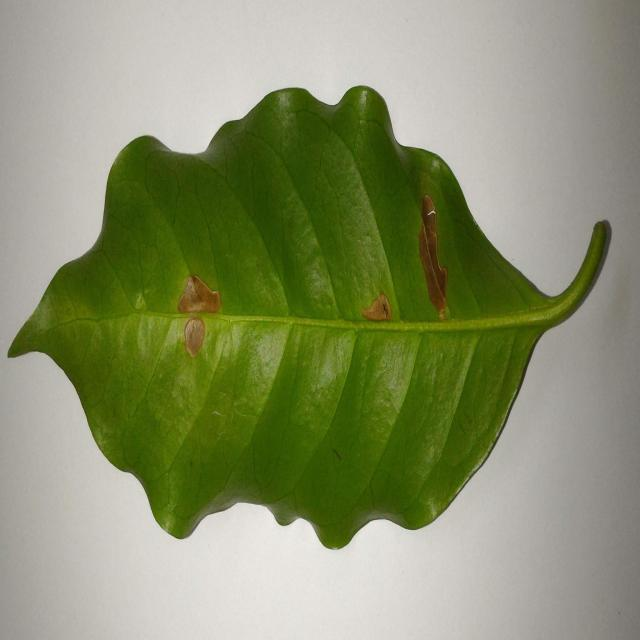Plaga-Minador: (7, 86, 613, 552)
